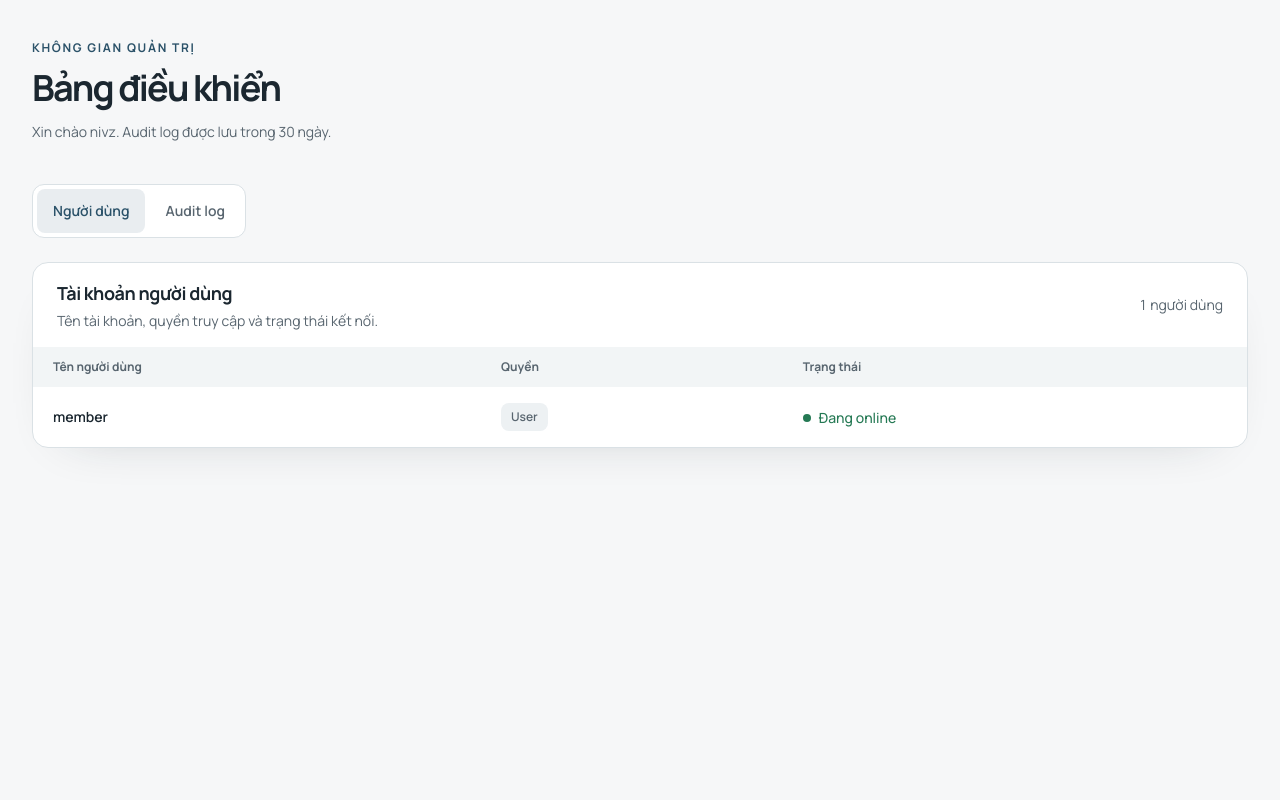
it: admin can view users and metadata-only audit events
Click the button "Audit log" at (195, 211), box [149,189,241,233]
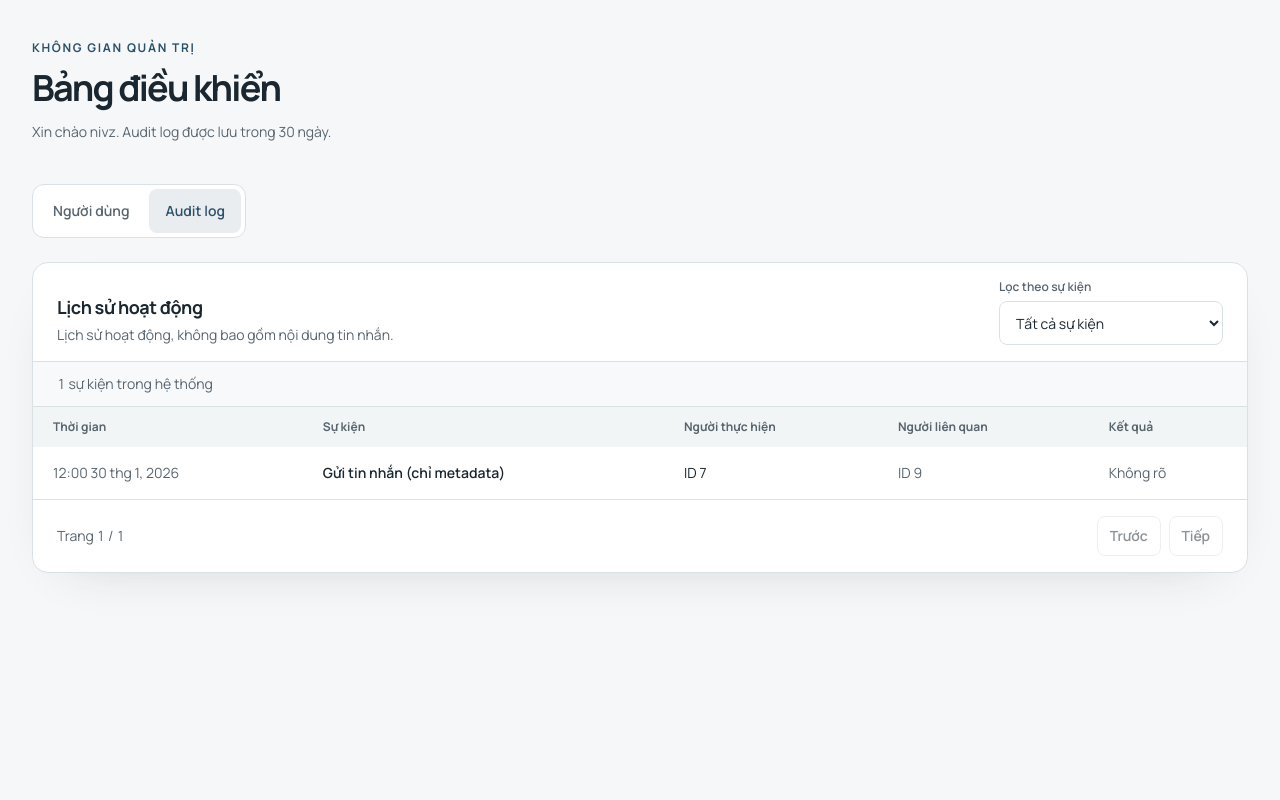
Now the row "Gửi tin nhắn (chỉ metadata)" is shown, box [33,447,1247,499]
